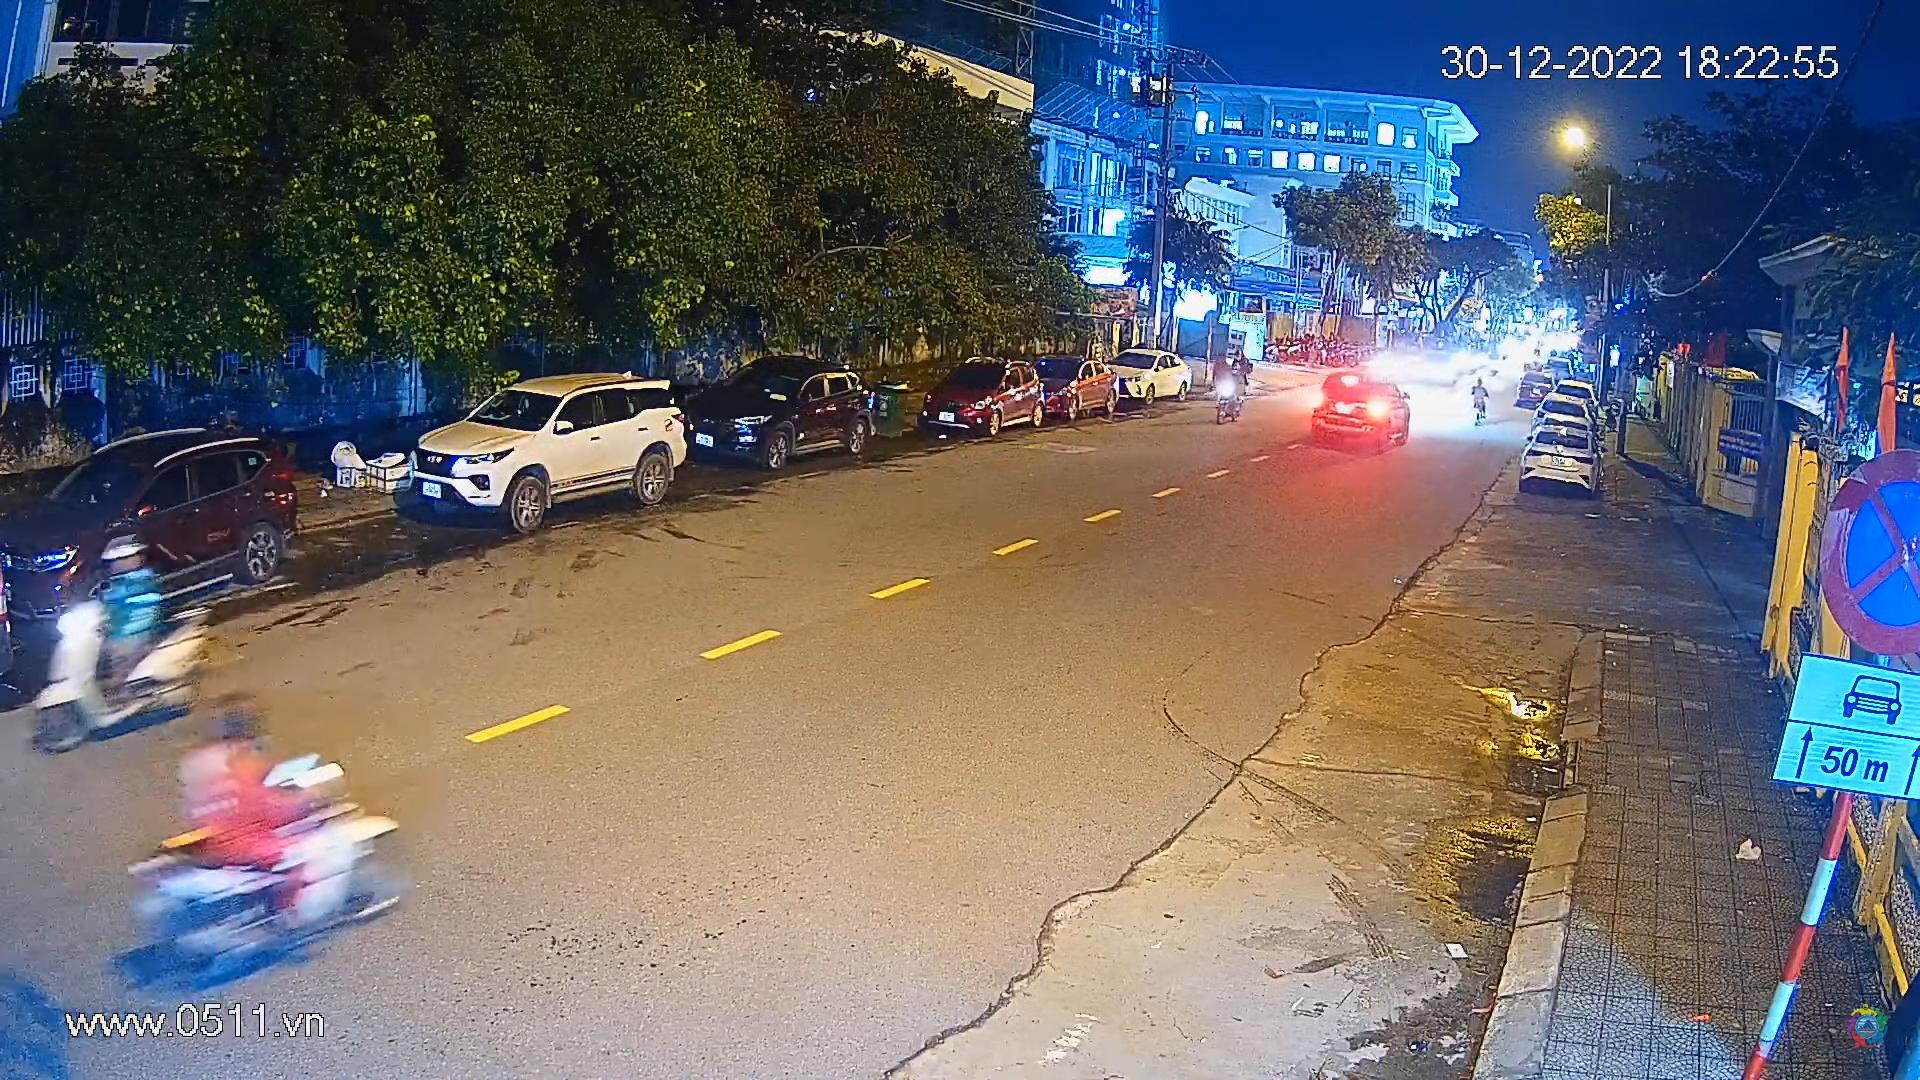car: (0, 411, 298, 657), (396, 369, 698, 533), (699, 349, 884, 480), (919, 352, 1055, 444), (1304, 372, 1414, 459), (1030, 332, 1116, 425), (1097, 342, 1196, 410), (1516, 423, 1600, 495), (1532, 386, 1598, 444), (1516, 368, 1553, 413)
motorcycle: (112, 684, 455, 1005), (22, 527, 232, 773), (1460, 368, 1499, 435), (1211, 367, 1247, 425)
